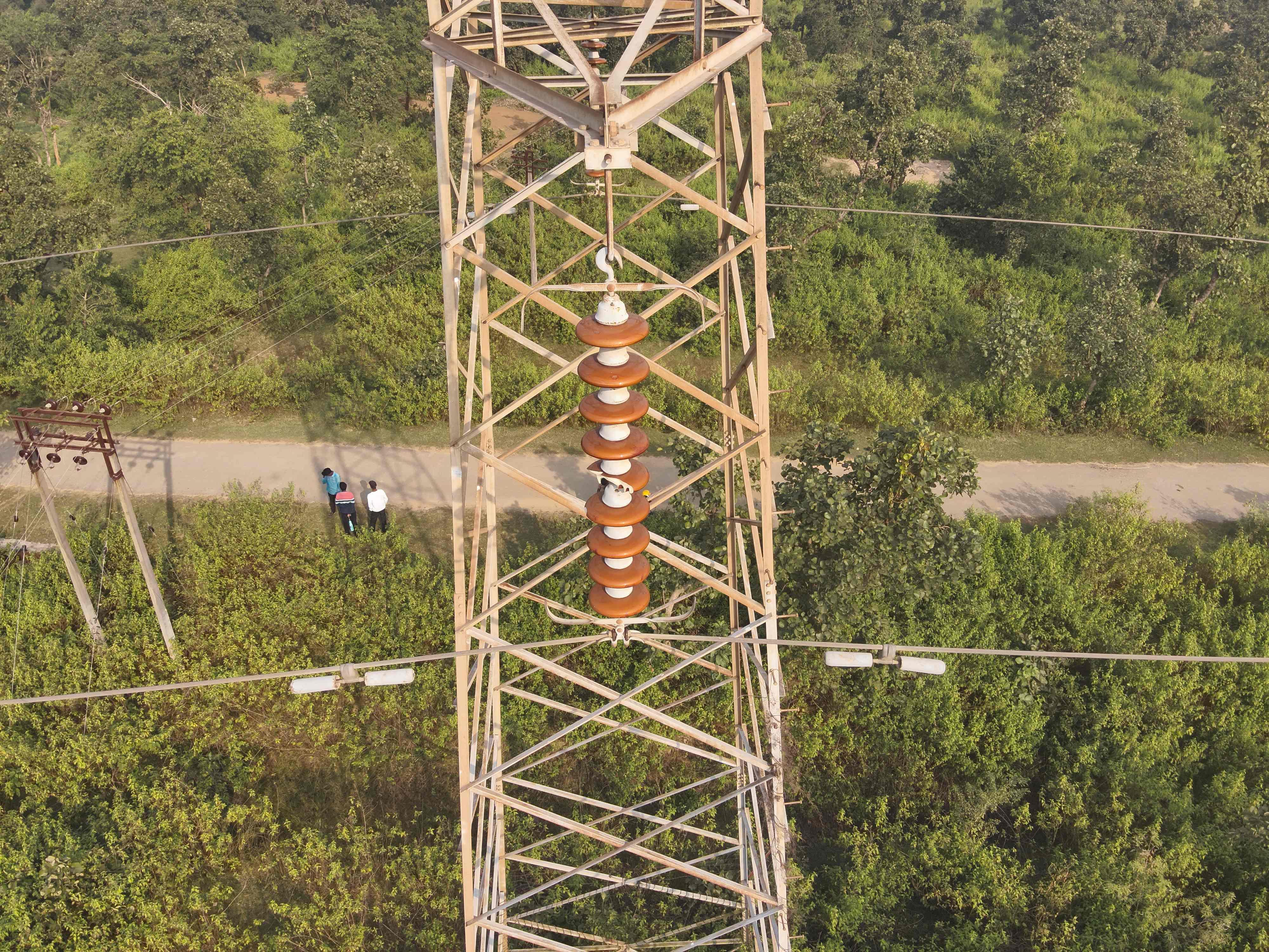broken_insulator: (585, 457, 651, 494)
